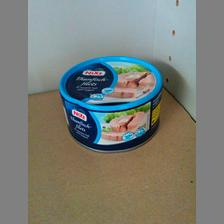Fisch: (57, 56, 162, 152)
